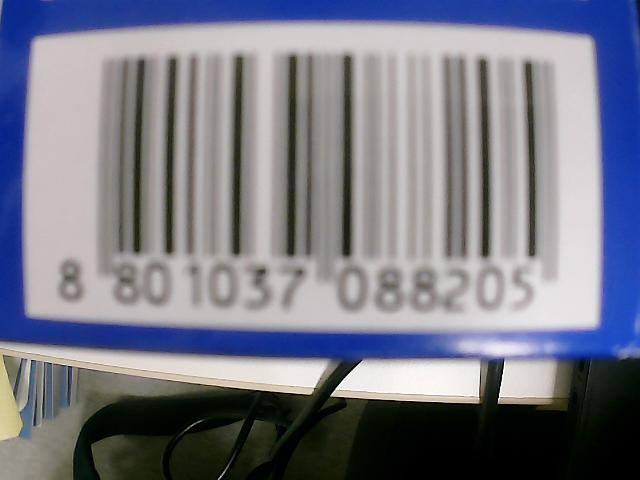kuandku-2000-2024-11-08: (51, 59, 580, 314)
